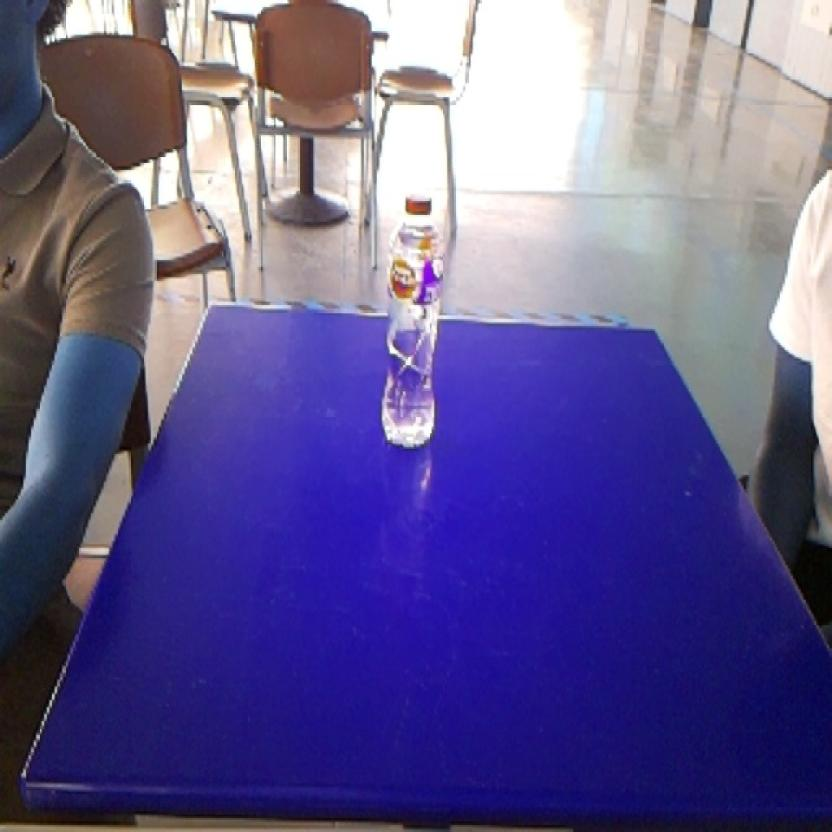good: (369, 178, 451, 464)
